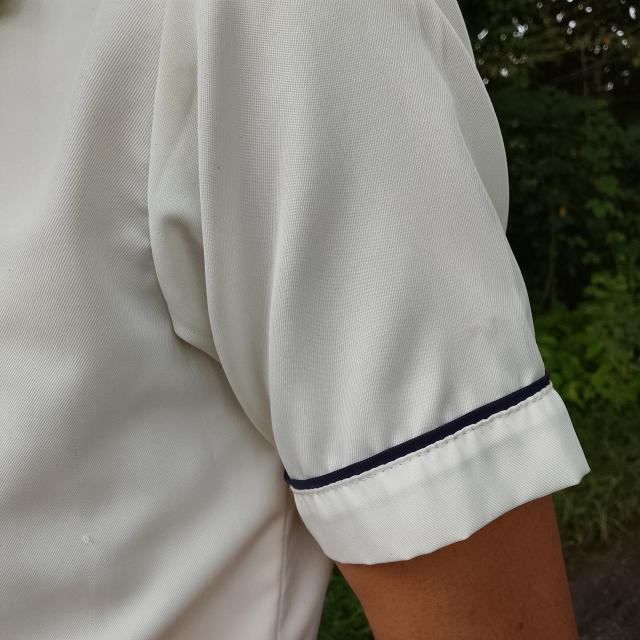education_male_uniform: (3, 0, 631, 594)
